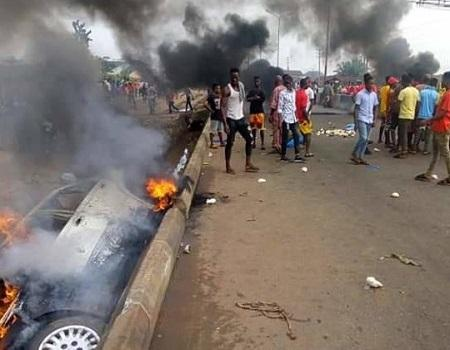fire: (145, 177, 180, 210), (0, 280, 19, 335), (0, 210, 18, 248)
smoke: (0, 0, 166, 209), (266, 0, 441, 81), (8, 229, 117, 325), (166, 3, 266, 90), (118, 212, 158, 244)
